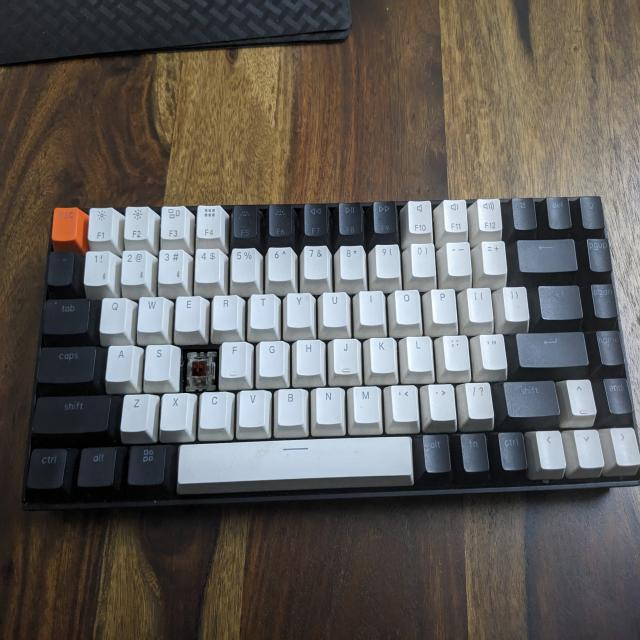C: (183, 349, 219, 393)
